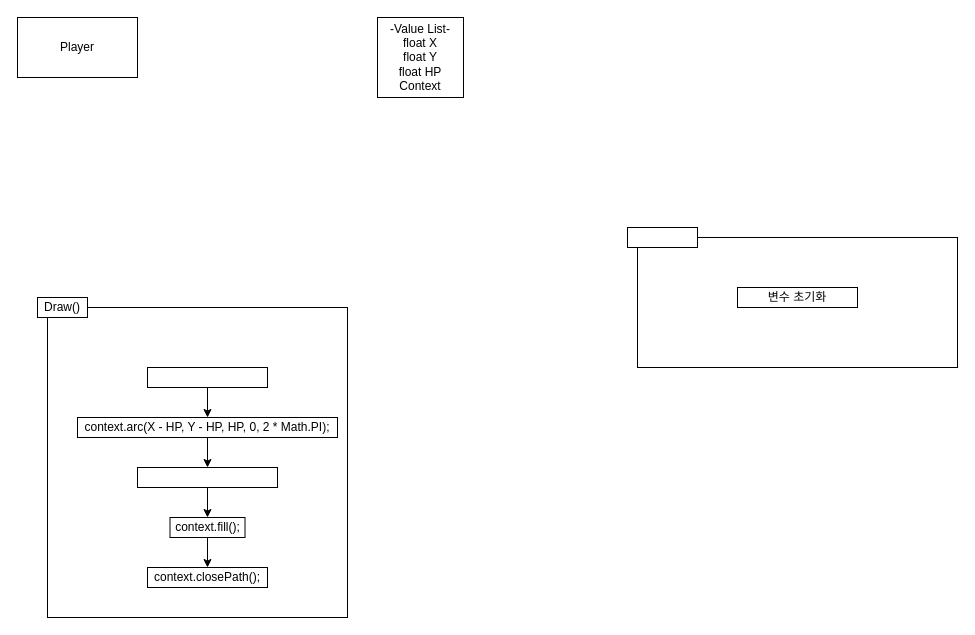
The diagram is 975 pixels wide and 635 high, and some of its shapes have lost their labels. The shapes that lost their labels are listed below. From the top down, each one's centre as x and y in pixels, then its label:
point (662, 237): constructor
point (207, 377): context.beginPath();
point (207, 477): context.fillStyle = "blue";
